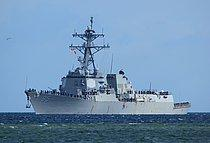MIL_Ship: (24, 16, 192, 117)
